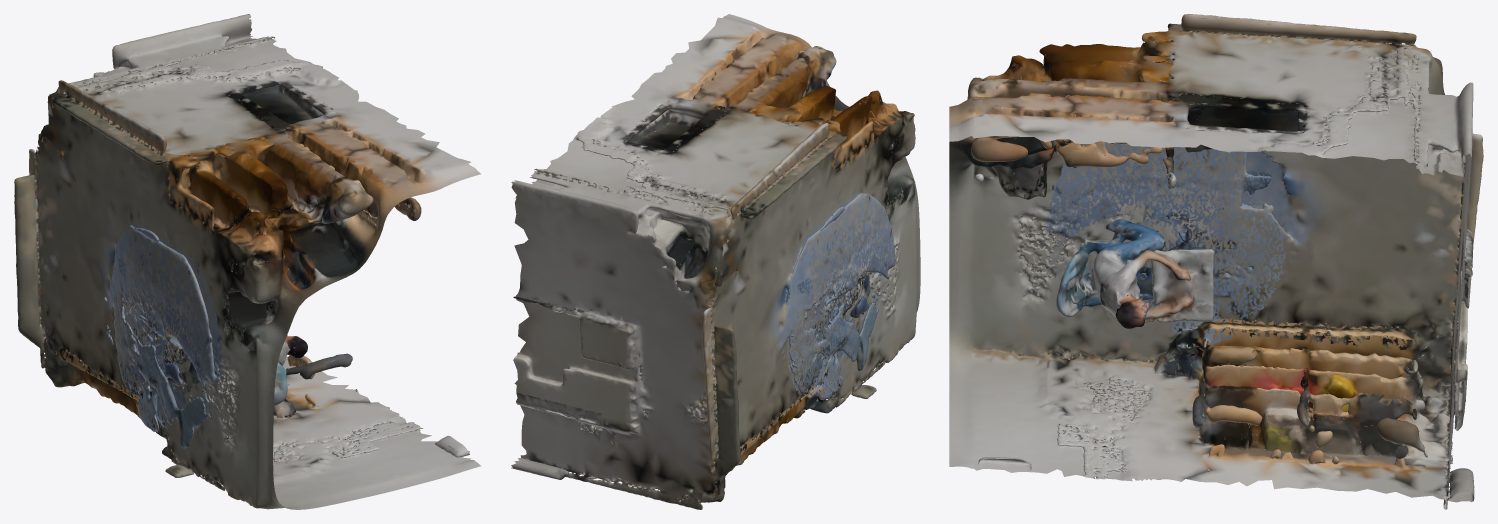
3 views of the same model, side by side, from view 1: azimuth 30°, elevation 25°; view 2: azimuth 150°, elevation 25°; view 3: azimuth 270°, elevation 25° (orthographic). The views are drawn at different scales.
Parts seen in each view (by area): view 1: answering_questions_84; view 2: answering_questions_84; view 3: answering_questions_84.
Boxes of the visible parts, x1,y1,x2,y2 form: answering_questions_84: [14, 14, 481, 509]; answering_questions_84: [511, 14, 920, 509]; answering_questions_84: [949, 14, 1483, 509].
Size of the model in its own units: 2.38 by 3.23 by 4.11.
1 material, 1 textured.
